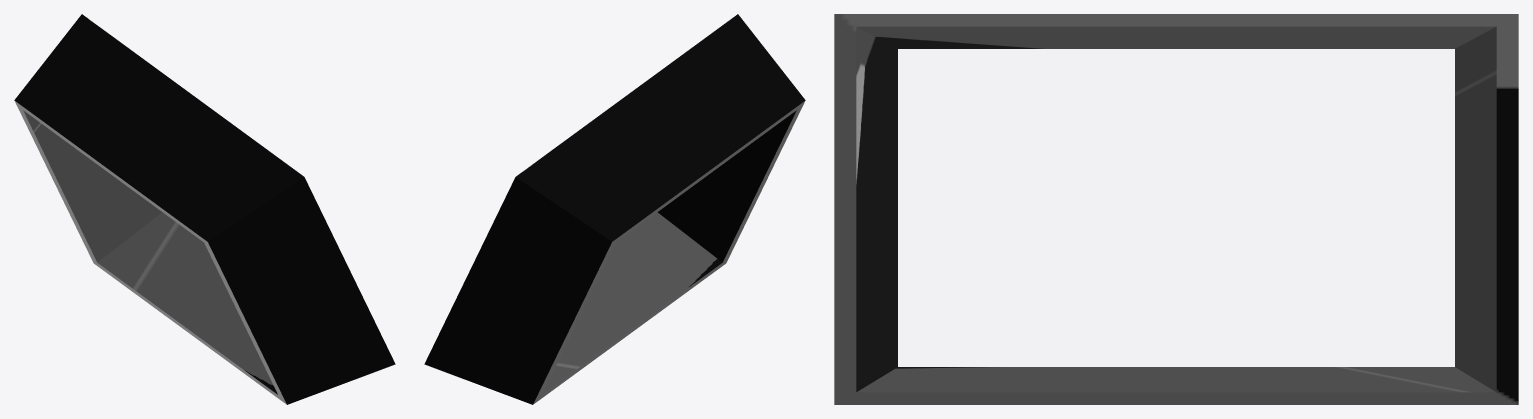
The model's file is monitor.fbx.
3 renders of one model, left to right at view 1: azimuth 30°, elevation 25°; view 2: azimuth 150°, elevation 25°; view 3: azimuth 270°, elevation 25°, orthographic. The views are drawn at different scales.
Parts seen in each view (by area): view 1: monitoir; view 2: monitoir; view 3: monitoir.
Boxes of the visible parts, x1,y1,x2,y2 form: monitoir: [14, 14, 395, 404]; monitoir: [424, 14, 805, 404]; monitoir: [834, 14, 1518, 404].
Bounding box in the file's own units: 157 × 207 × 350.
2 materials, 1 textured.
